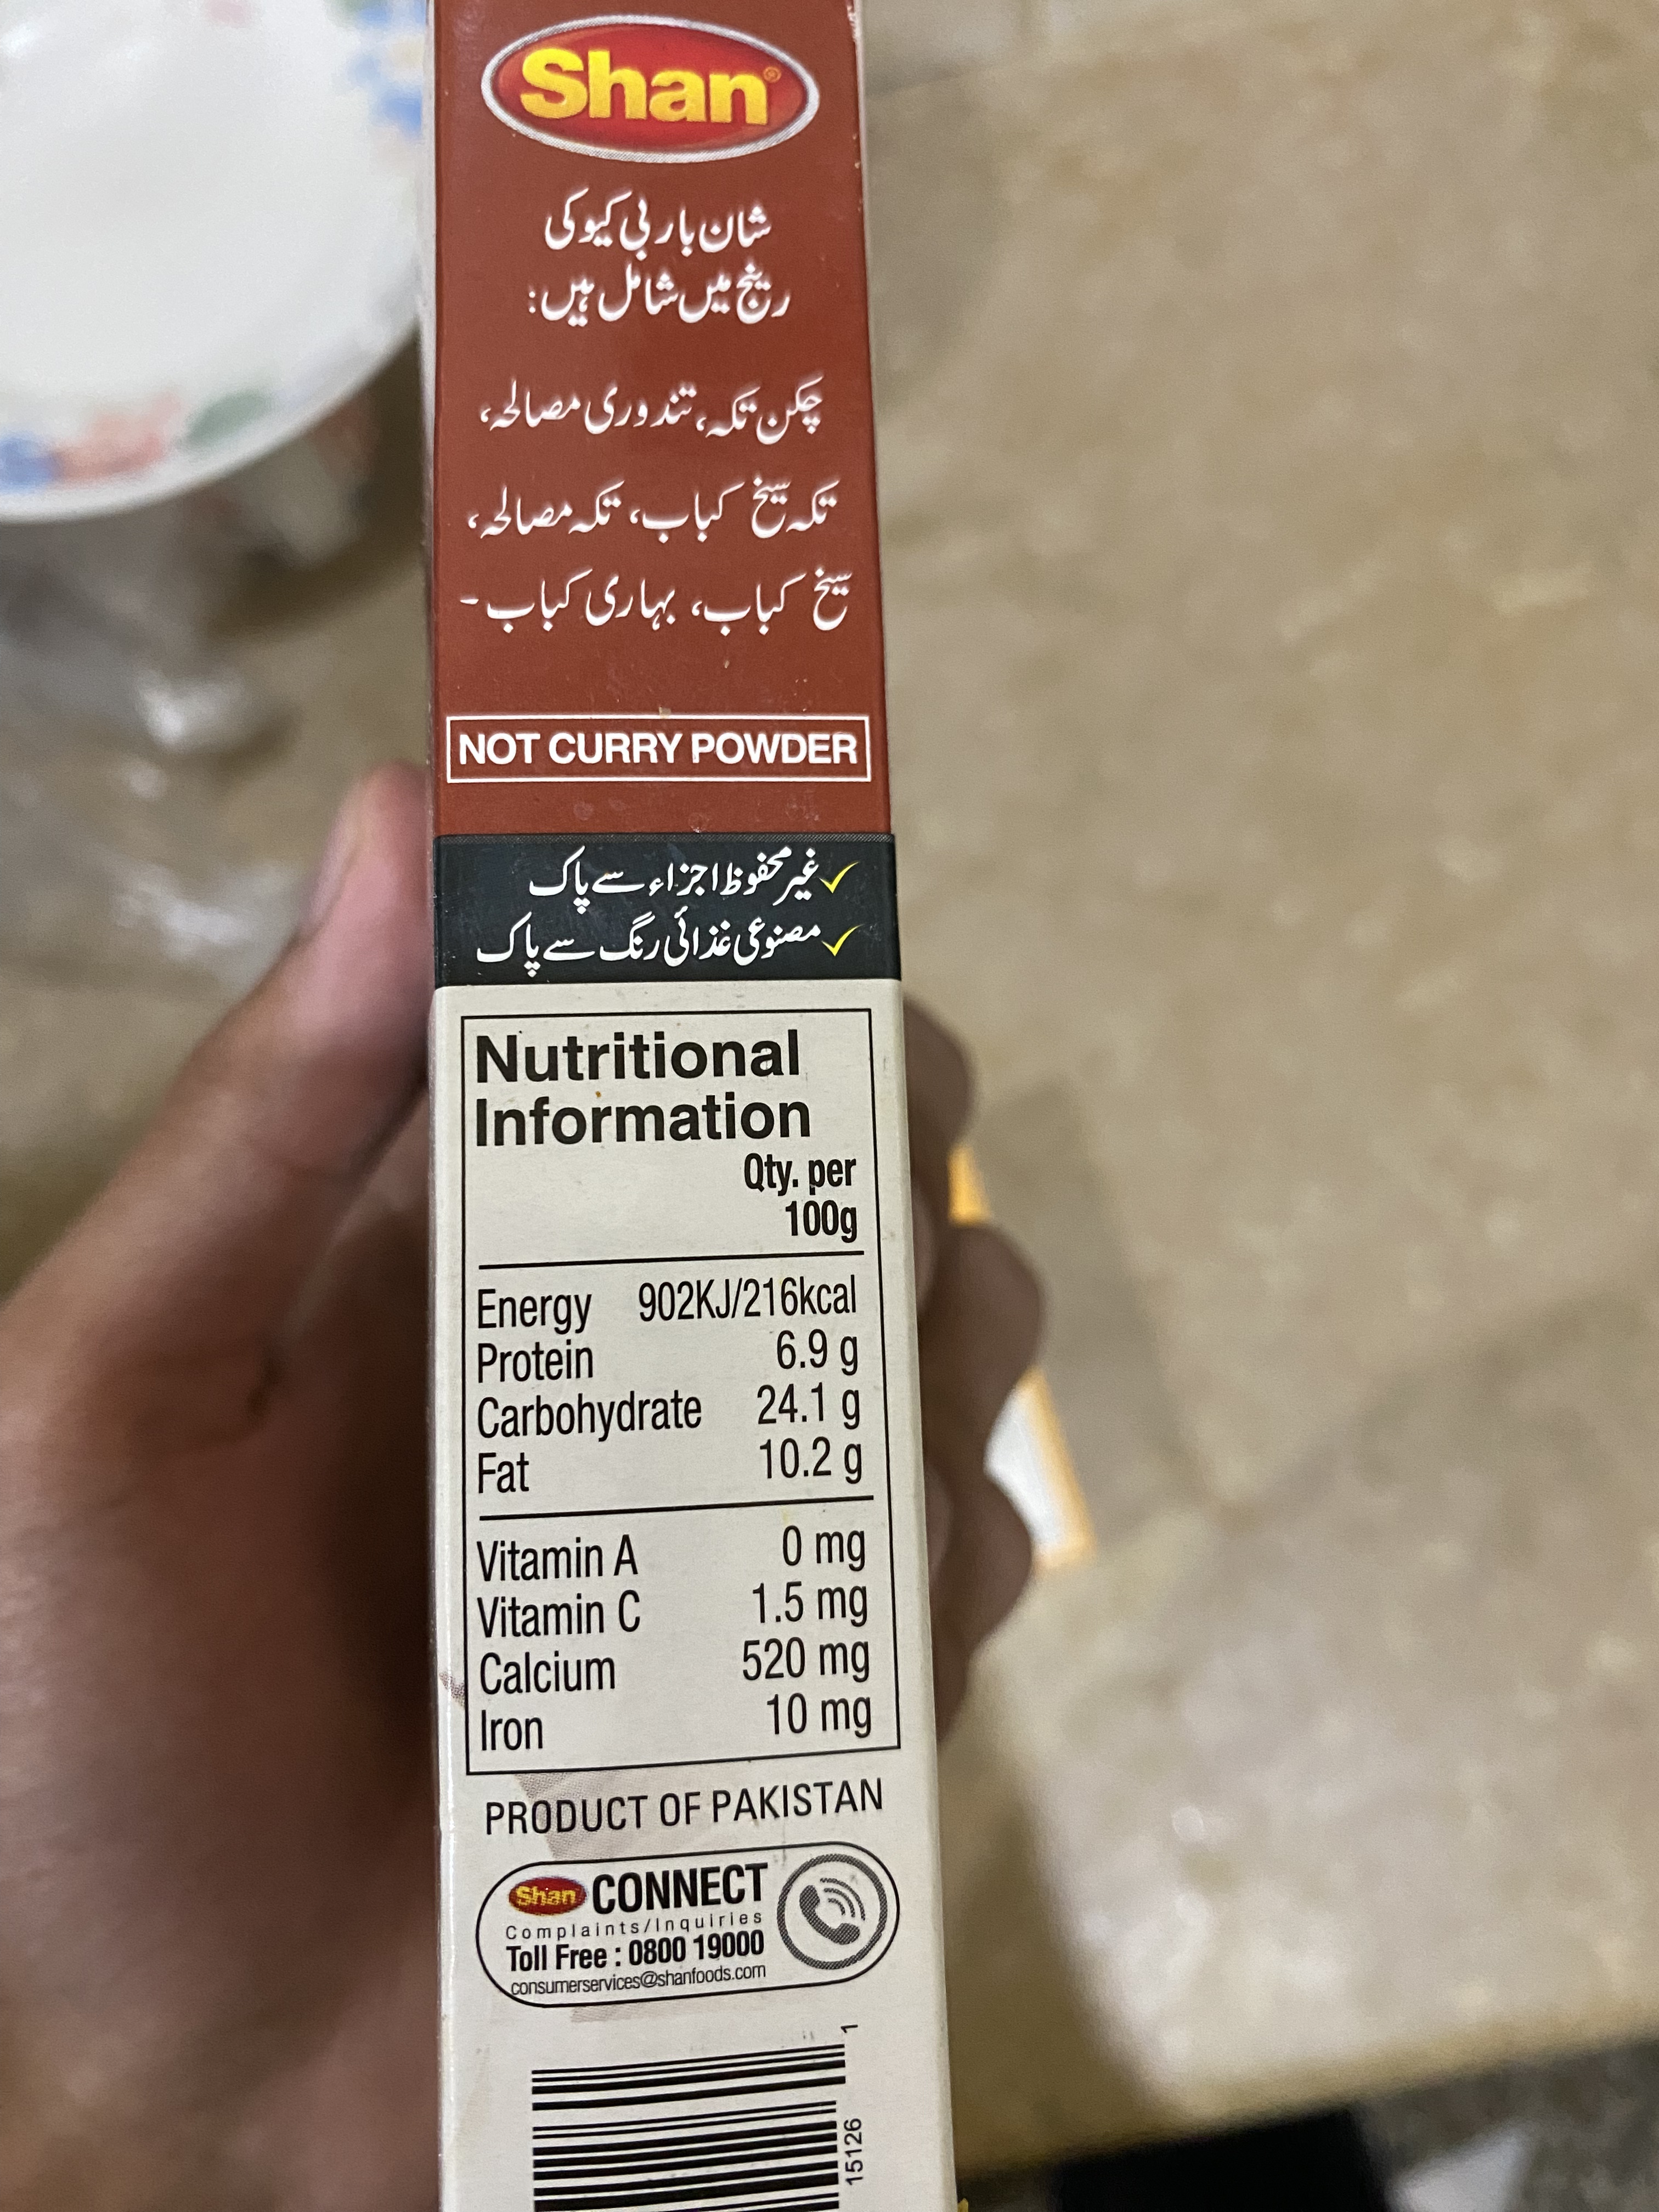table: (464, 1008, 913, 1768)
